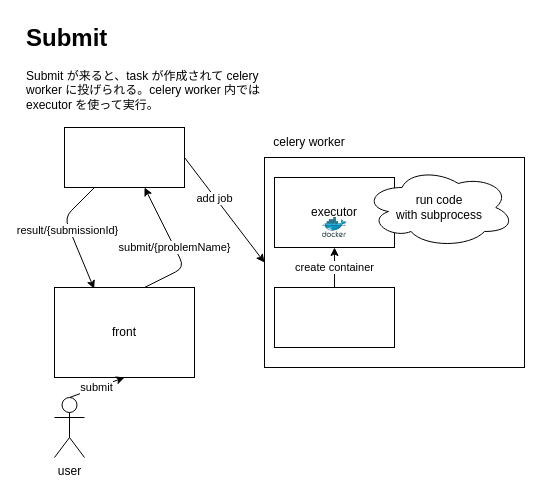
This 543x495 diagram has some shape labels left out. The shapes that lost their labels are listed below. From the top down, each one's box as (x1, y1, x2, y2) in pixels, then its label:
(64, 126, 184, 188): backend
(274, 286, 394, 348): tasks.py
